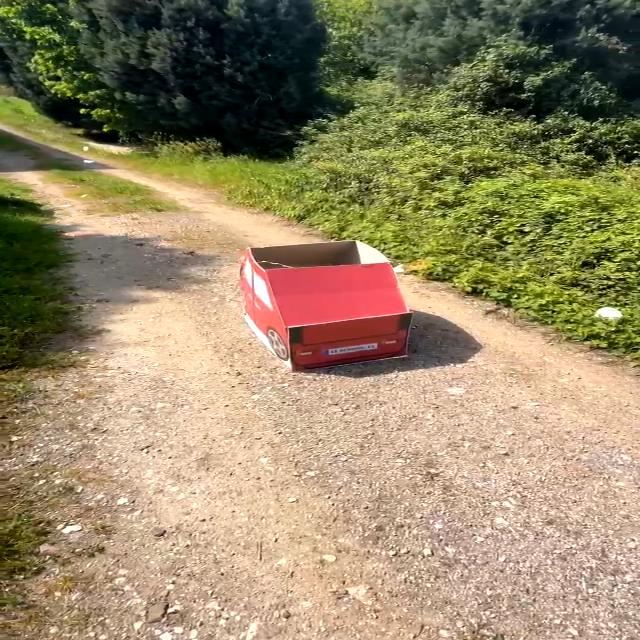red_car: (217, 238, 443, 379)
